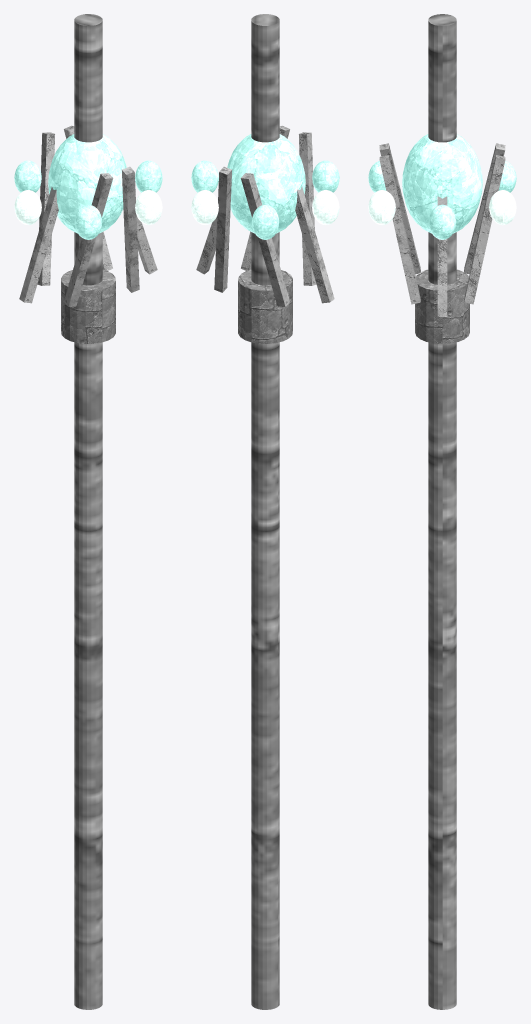
Rendered from staff-spirit-advanced.glb.
The picture shows the model from 3 angles, left to right: view 1: azimuth 30°, elevation 25°; view 2: azimuth 150°, elevation 25°; view 3: azimuth 270°, elevation 25°; orthographic projection.
Parts seen in each view (by area): view 1: shaft, chorus-core, collar, rib-1, rib-3, rib-2, rib-4, voice-3, voice-1, voice-2, voice-0, voice-4 (+2 smaller); view 2: shaft, chorus-core, collar, rib-5, rib-3, rib-4, rib-2, voice-3, voice-5, voice-4, voice-0, voice-2 (+2 smaller); view 3: shaft, chorus-core, collar, rib-1, rib-5, rib-0, voice-1, voice-5, rib-2, rib-4, voice-0, voice-2 (+1 smaller).
Part boxes in pixels (x1,y1,x2,y2): shaft: (74,14,102,1009); chorus-core: (48,134,126,233); collar: (61,269,115,343); rib-1: (122,166,139,292); rib-3: (19,186,58,303); rib-2: (64,173,113,306); rib-4: (37,132,54,285); voice-3: (14,190,41,224); voice-1: (135,190,162,224); voice-2: (74,204,102,239); voice-0: (135,160,162,192); voice-4: (14,160,41,192); shaft: (251,14,279,1009); chorus-core: (227,134,305,233); collar: (238,269,292,343); rib-5: (214,166,231,292); rib-3: (295,186,334,303); rib-4: (240,173,289,306); rib-2: (299,132,316,285); voice-3: (312,190,339,224); voice-5: (191,190,218,224); voice-4: (251,204,279,239); voice-0: (191,160,218,192); voice-2: (312,160,339,192); shaft: (428,14,456,1009); chorus-core: (402,134,482,233); collar: (415,269,469,343); rib-1: (379,155,420,304); rib-5: (464,155,505,304); rib-0: (437,196,447,316); voice-1: (368,190,395,225); voice-5: (489,190,516,225); rib-2: (379,143,420,274); rib-4: (464,143,505,274); voice-0: (428,204,456,239); voice-2: (368,161,386,192).
Size of the model in its own units: 0.455 by 2.96 by 0.4041.
Materials: 5 (5 with a texture image).
